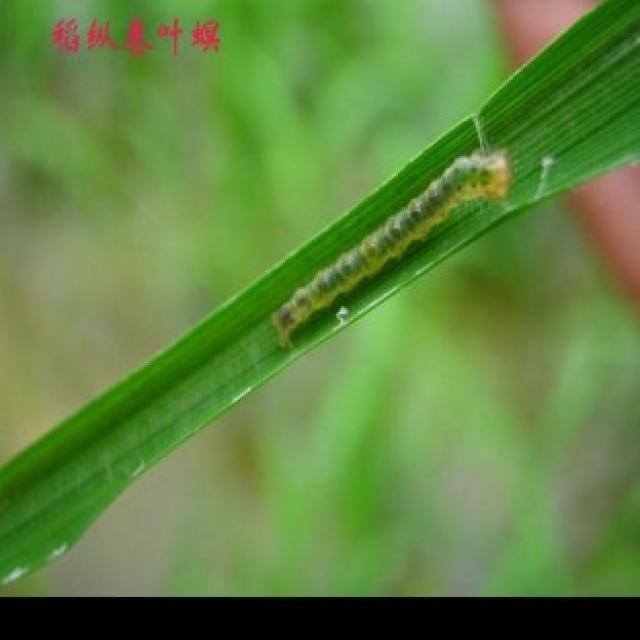rice leaf roller: (273, 150, 509, 345)
